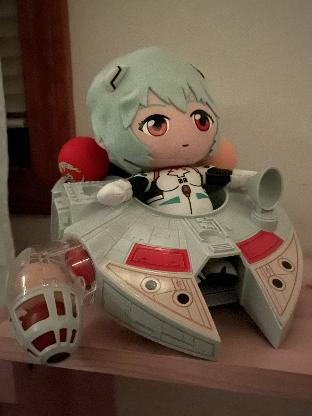rei-plush: (84, 44, 265, 224)
